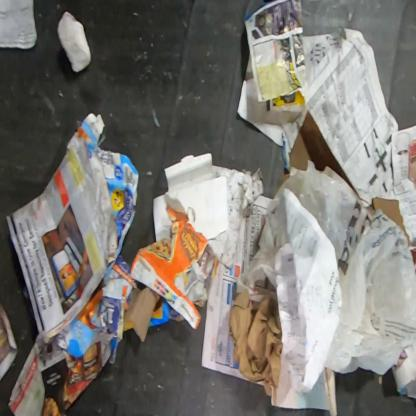cardboard: (129, 205, 208, 330), (75, 112, 140, 262), (288, 110, 360, 197), (228, 288, 282, 396), (56, 266, 111, 358), (364, 197, 414, 246), (124, 287, 164, 342), (148, 297, 184, 327)
soft_plastic: (235, 159, 415, 375)
